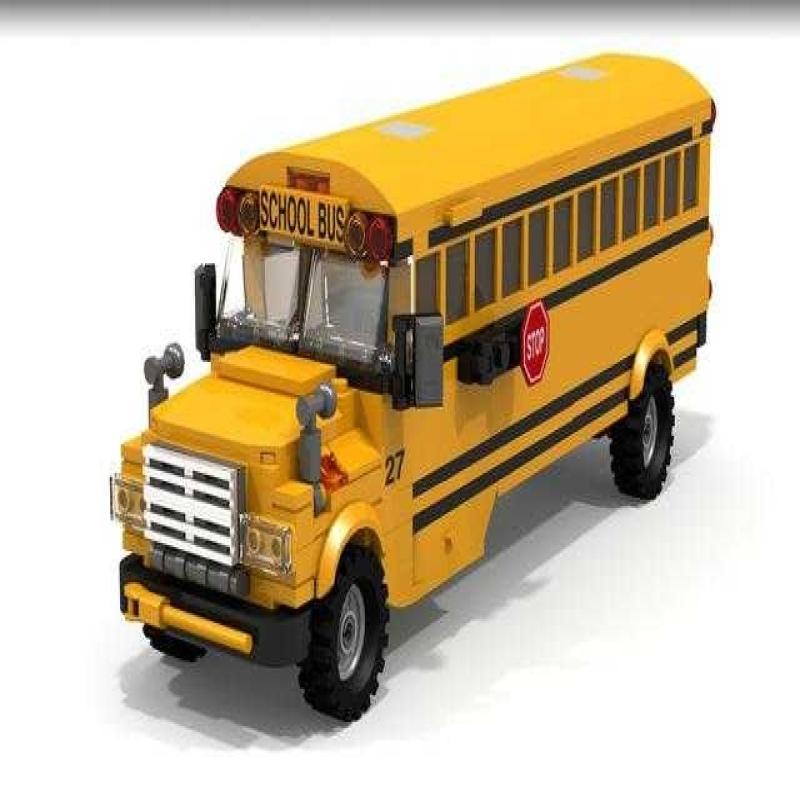bus: (93, 98, 697, 660)
